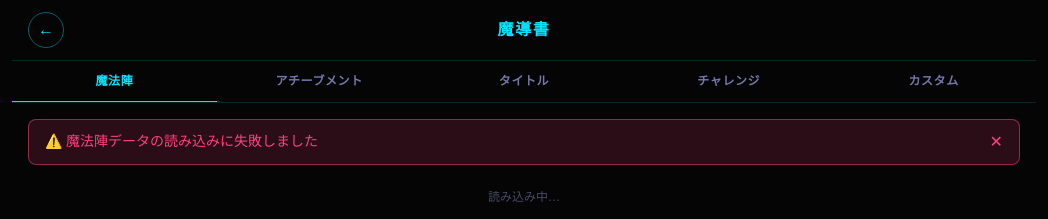
Scenario: GrimoirePage › エラーハンドリング › エラーバナーの閉じるボタンでバナーが消える
The width and height of the screenshot is (1048, 219).
Check: the message "⚠️ 魔法陣データの読み込みに失敗しました ✕" is shown, box [28, 119, 1020, 165]
Click the button named "エラーを閉じる". click: (996, 142)
box: [990, 134, 1003, 150]
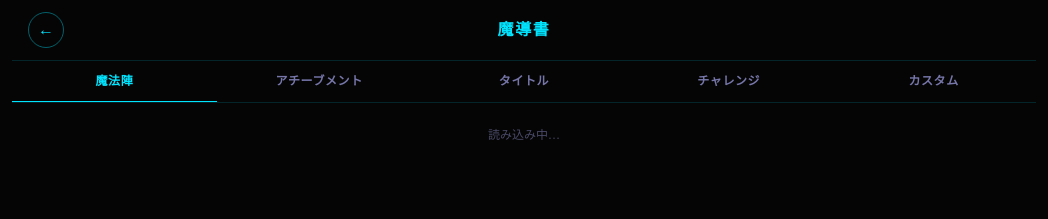
Check: the message "⚠️ 魔法陣データの読み込みに失敗しました ✕" is gone
